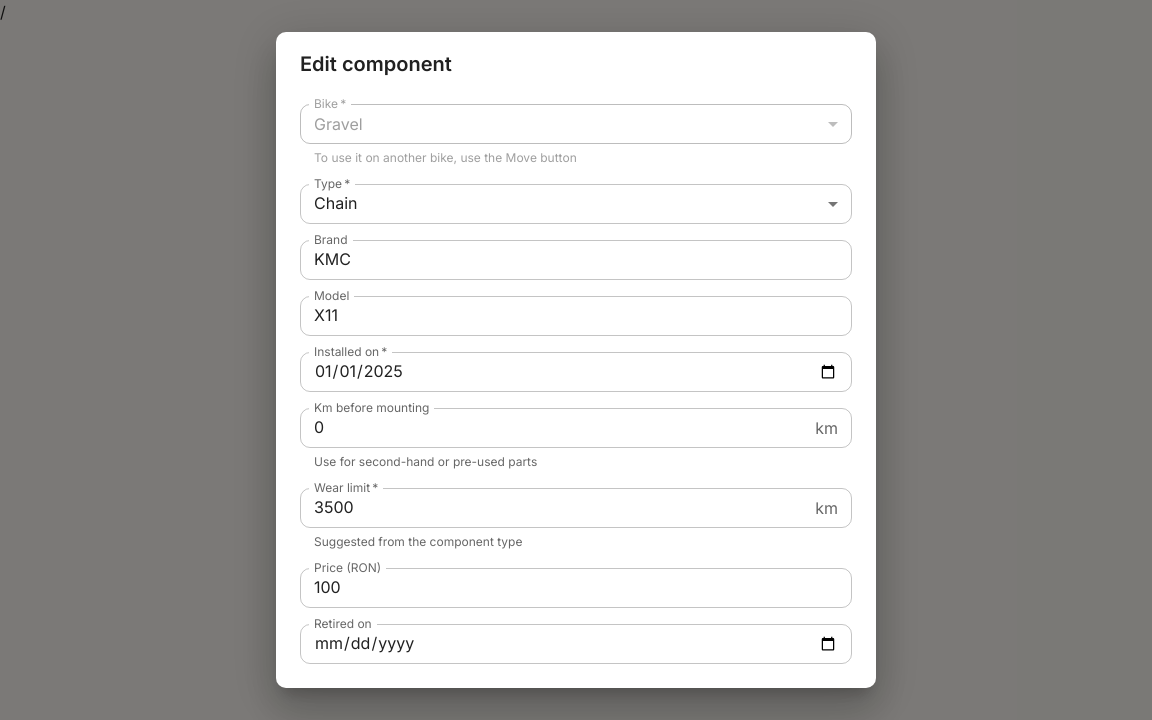
ComponentFormDialog › editing keeps the stored limit when the type changes and can set a retirement date
Expected: the heading "Edit component" is shown, [300,52,452,76]
Expected: the number field labelled "Wear limit *" holds "3500", [300,488,807,528]
Click the dropdown named "Type".
click(336, 203)  # box [314,193,358,213]
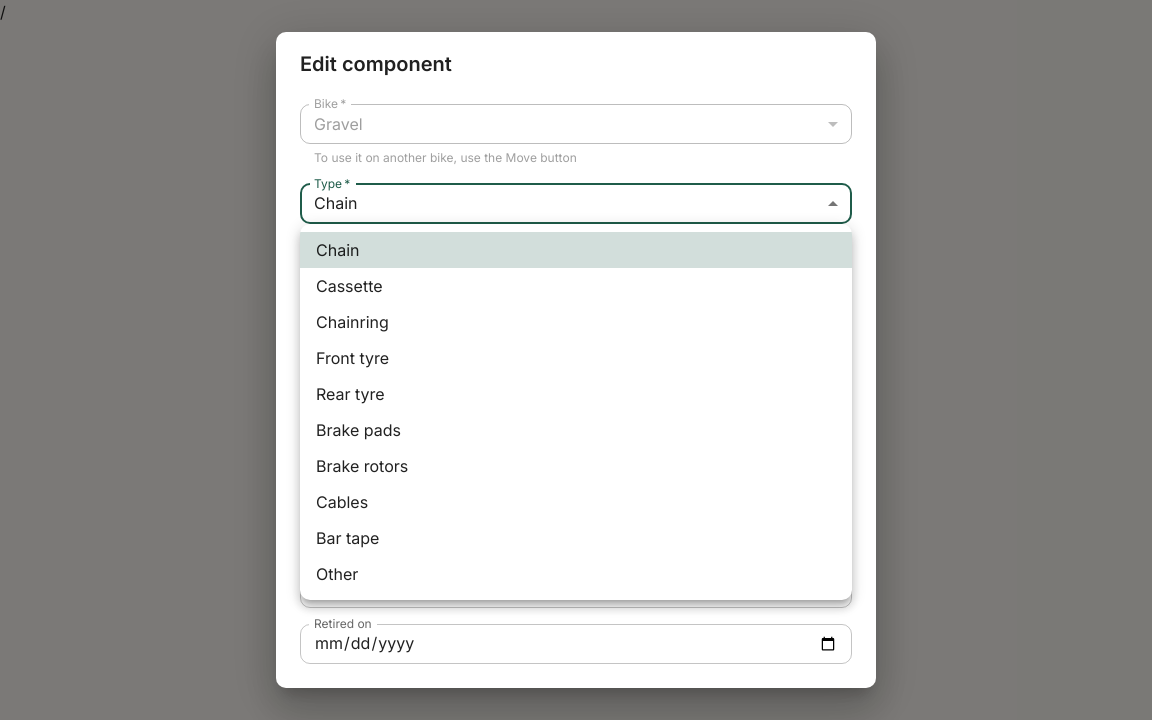
Click the option "Cassette".
click(349, 286)  # box [316,276,382,296]
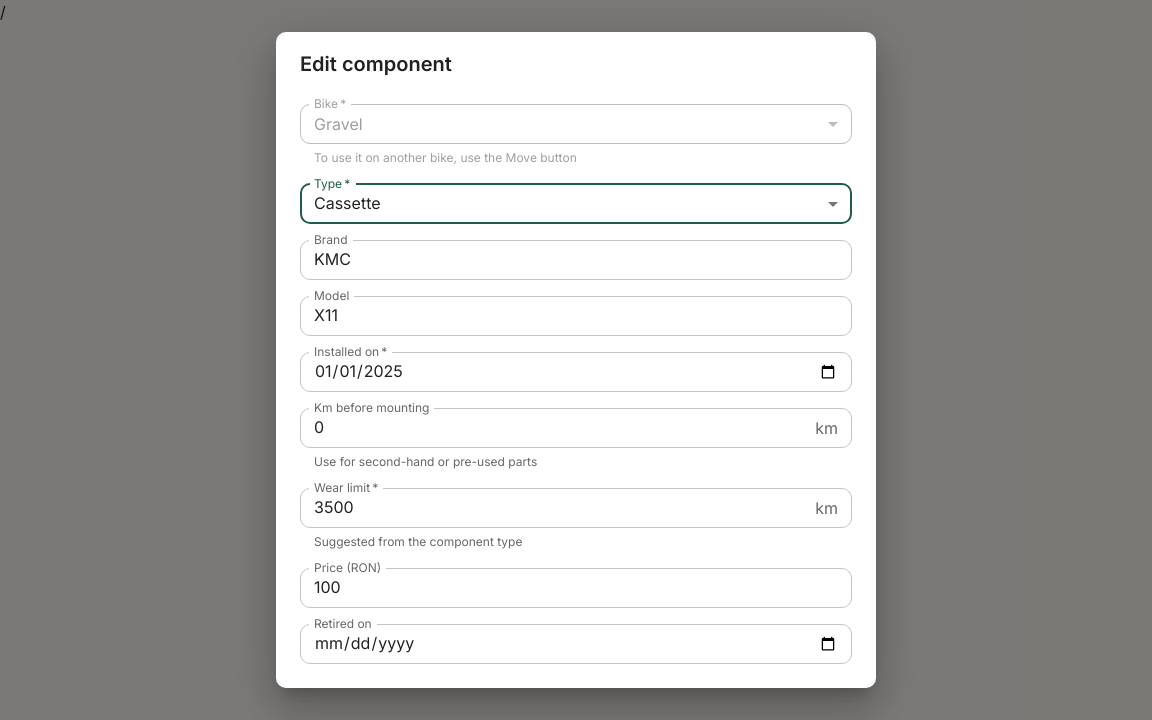
Expected: the number field labelled "Wear limit *" holds "3500", [300,488,807,528]
Type "2025-06-01" into the date field labelled "Retired on".
click(576, 644); type("2025-06-01")  # box [300,624,852,664]
(page scrolled)
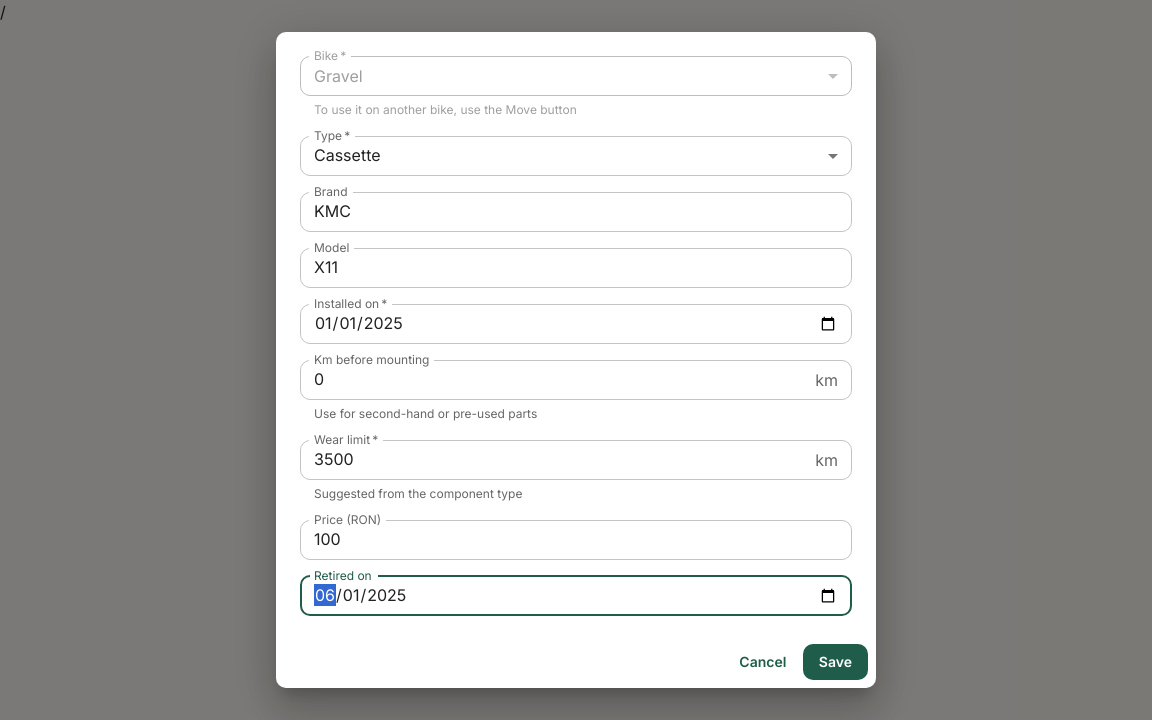
Click the button "Save".
click(835, 662)  # box [803,644,868,680]
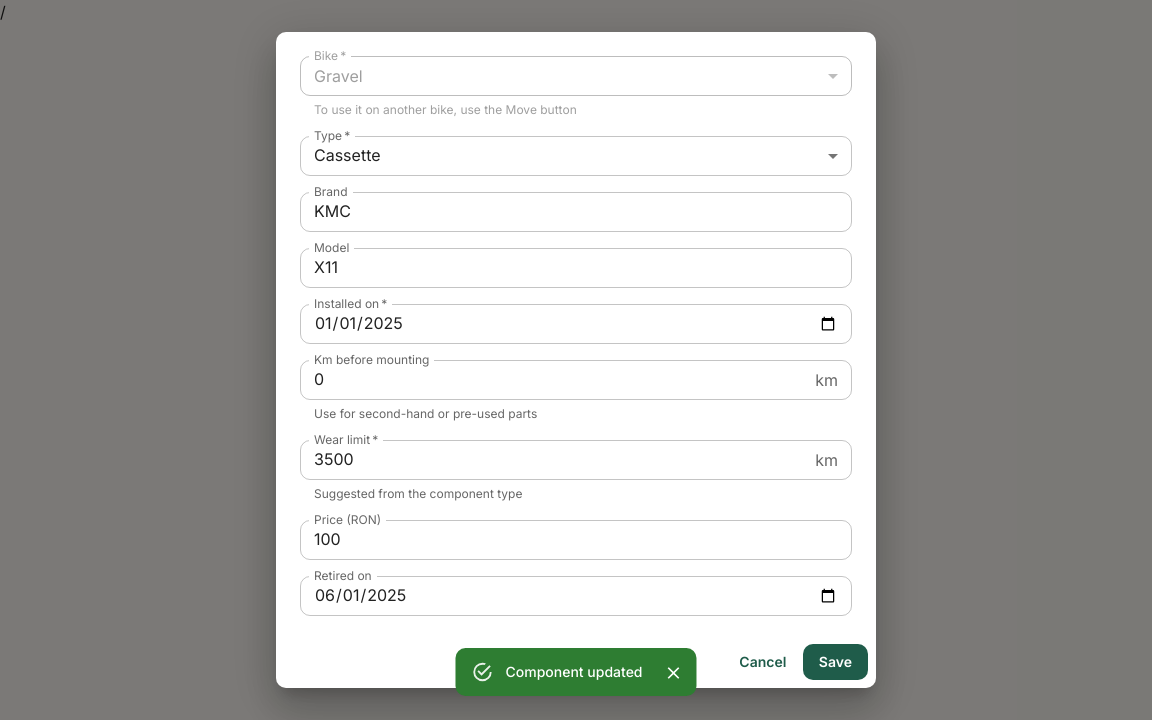
Now the text "Component updated" is shown, box [506,663,642,680]
